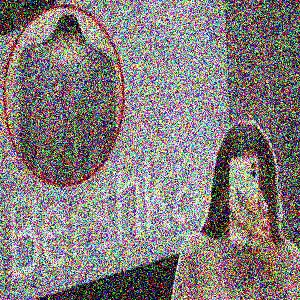bershka: (99, 144, 300, 274)
